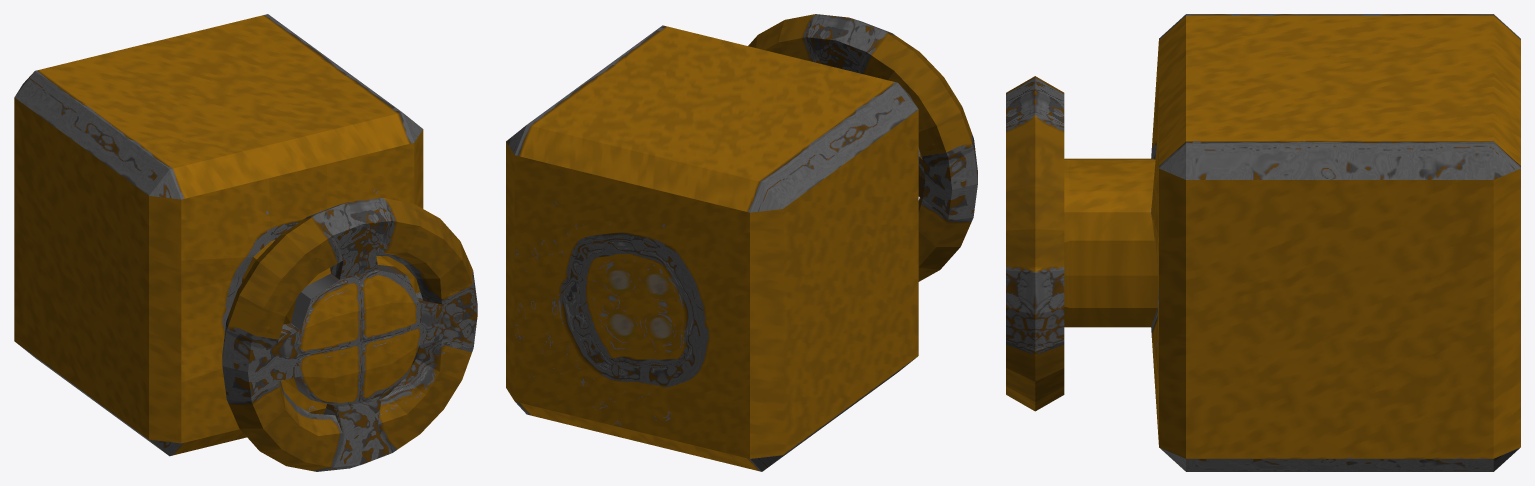
File: pipe_move_frame.fbx
The picture shows the model from 3 angles, left to right: view 1: azimuth 30°, elevation 25°; view 2: azimuth 150°, elevation 25°; view 3: azimuth 270°, elevation 25°; orthographic projection. The views are drawn at different scales.
Visible parts, largest first — view 1: Cube.004; view 2: Cube.004; view 3: Cube.004.
Boxes of the visible parts, <box> form: Cube.004: <box>14,14,477,471</box>; Cube.004: <box>506,14,977,471</box>; Cube.004: <box>1006,14,1520,471</box>.
Bounding box in the file's own units: 269 × 269 × 382.
